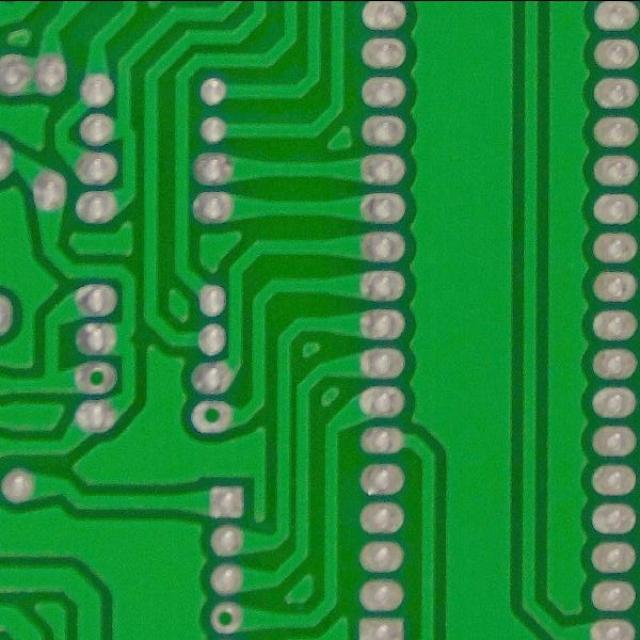Missing_Hole: (184, 394, 239, 438), (69, 357, 122, 399), (204, 597, 247, 638)
